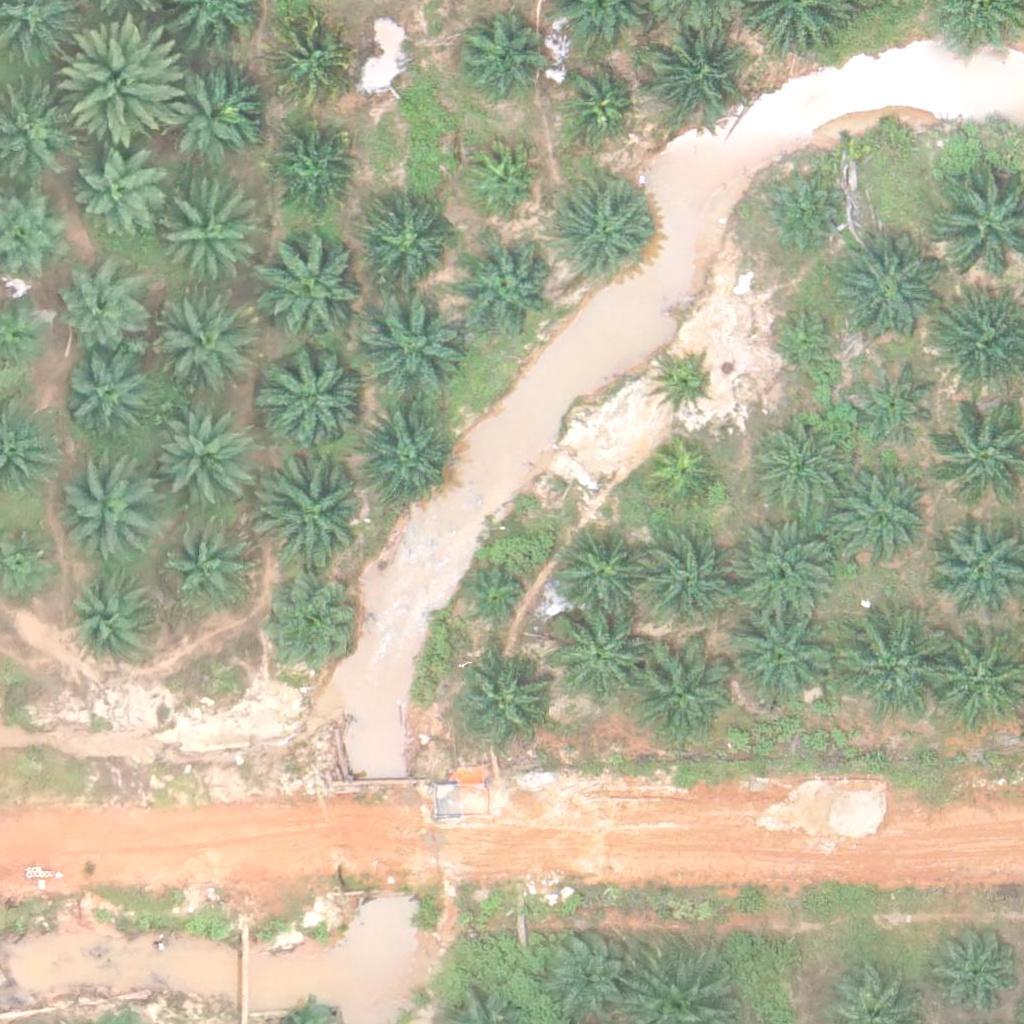Kelapa_Sawit: (63, 20, 188, 146), (828, 235, 941, 348), (726, 513, 839, 626), (723, 601, 836, 714), (625, 640, 738, 753), (354, 286, 467, 399), (255, 230, 368, 343), (259, 341, 372, 454), (831, 610, 943, 724), (258, 453, 370, 566), (533, 921, 633, 1022), (828, 469, 928, 570), (636, 535, 736, 636), (551, 526, 651, 627), (353, 407, 453, 508), (453, 652, 553, 753), (261, 580, 361, 681), (158, 187, 258, 288), (153, 299, 253, 400), (149, 407, 249, 508), (643, 24, 743, 124), (553, 184, 653, 284), (751, 417, 851, 517), (546, 606, 646, 706), (459, 237, 559, 337), (157, 57, 257, 157), (60, 459, 160, 559), (851, 363, 939, 451), (756, 171, 844, 259), (453, 9, 541, 97), (364, 204, 452, 292), (264, 15, 352, 103), (57, 267, 145, 355), (60, 354, 147, 443), (267, 123, 354, 211), (167, 525, 254, 613), (69, 574, 156, 662), (75, 147, 162, 235), (465, 140, 540, 216), (560, 66, 635, 141), (768, 302, 843, 377), (644, 440, 719, 515), (459, 564, 534, 639), (653, 353, 716, 416)
